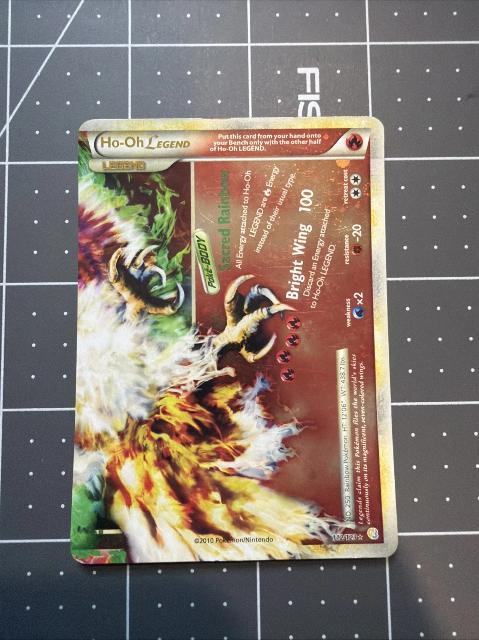Card: (65, 113, 404, 570)
Name: (96, 130, 195, 157)
